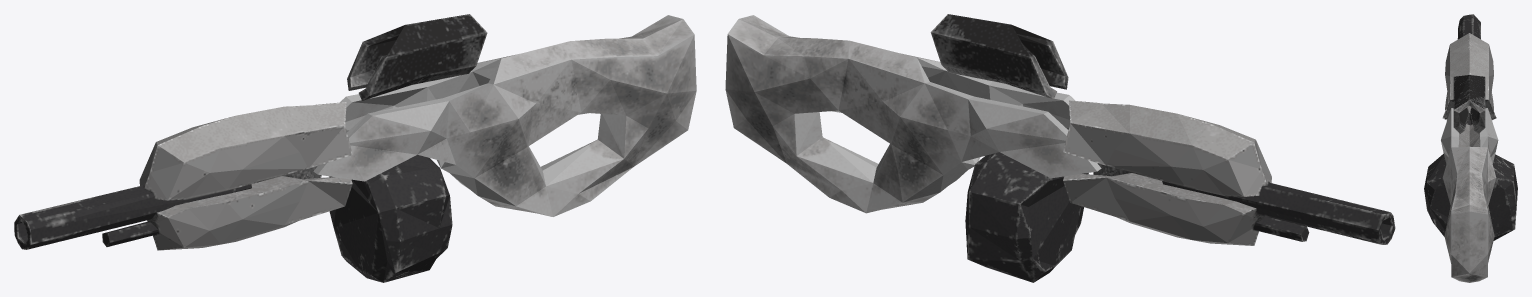
The model's file is machine gun.fbx.
The picture shows the model from 3 angles, left to right: view 1: azimuth 30°, elevation 25°; view 2: azimuth 150°, elevation 25°; view 3: azimuth 270°, elevation 25°; orthographic projection. The views are drawn at different scales.
Parts seen in each view (by area): view 1: machine gun; view 2: machine gun; view 3: machine gun.
Part boxes in pixels (<box>): machine gun: <box>14,14,696,282</box>; machine gun: <box>725,14,1395,282</box>; machine gun: <box>1424,14,1517,282</box>.
Size of the model in its own units: 443 by 155 by 78.57.
